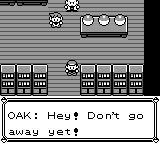main: (64, 60, 79, 76)
no-caminable: (81, 65, 142, 96), (0, 64, 48, 96), (144, 0, 159, 96), (80, 17, 128, 38), (17, 0, 47, 5), (0, 0, 15, 5)
npc: (48, 13, 64, 28), (64, 0, 80, 12)
poke-ball: (114, 14, 126, 26), (82, 14, 94, 26), (98, 14, 110, 26)
texto: (1, 97, 159, 143)
